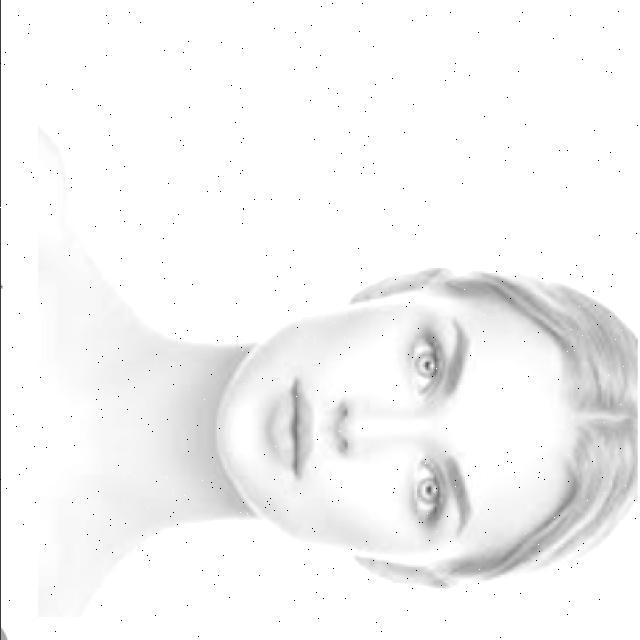face_no_mask: (209, 270, 557, 597)
